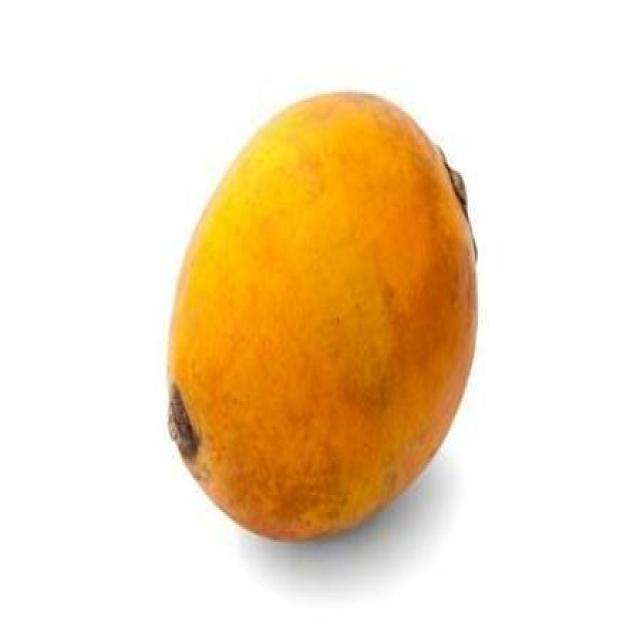good: (169, 94, 476, 535)
